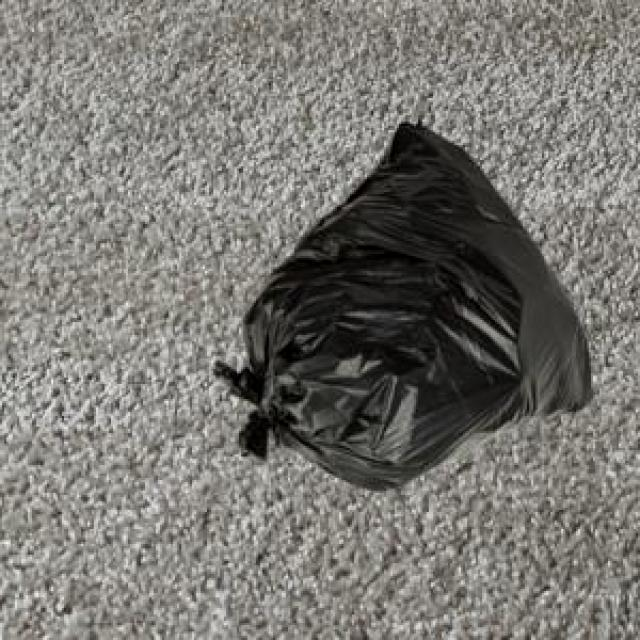Trashbag: (209, 113, 599, 498)
